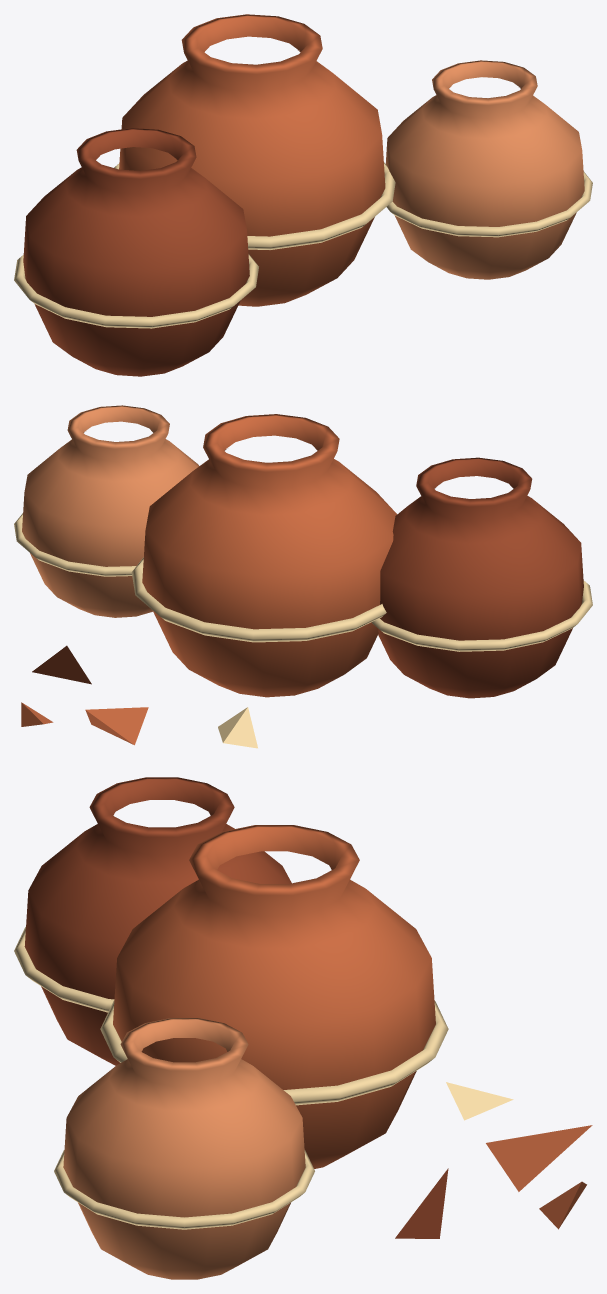
File: ClayPotGroup.glb
The picture shows the model from 3 angles, top to bottom: view 1: azimuth 30°, elevation 25°; view 2: azimuth 150°, elevation 25°; view 3: azimuth 270°, elevation 25°; orthographic projection. The views are drawn at different scales.
Parts seen in each view (by area): view 1: Body; view 2: Body; view 3: Body.
Part boxes in pixels (x1,y1,x2,y2): Body: (14, 14, 592, 376); Body: (14, 405, 592, 748); Body: (14, 777, 592, 1279).
Bounding box in the file's own units: 3.44 × 1.43 × 2.58.
1 material, 1 textured.
